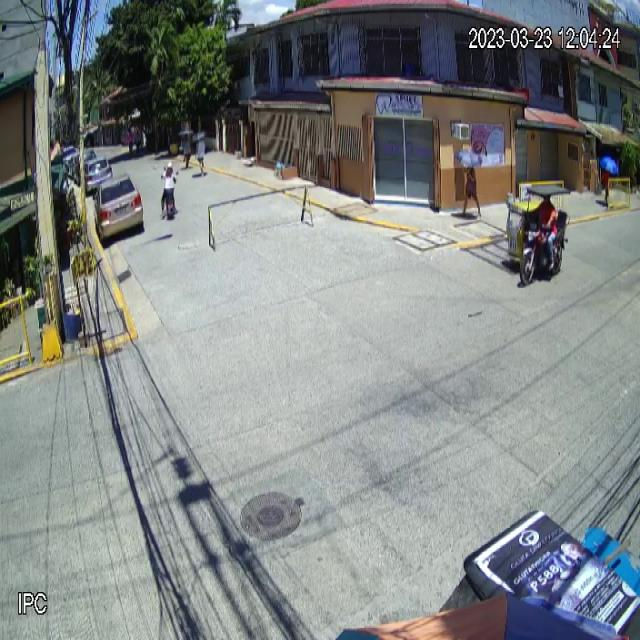Car: (92, 173, 143, 245)
Tricycle: (505, 185, 571, 287)
